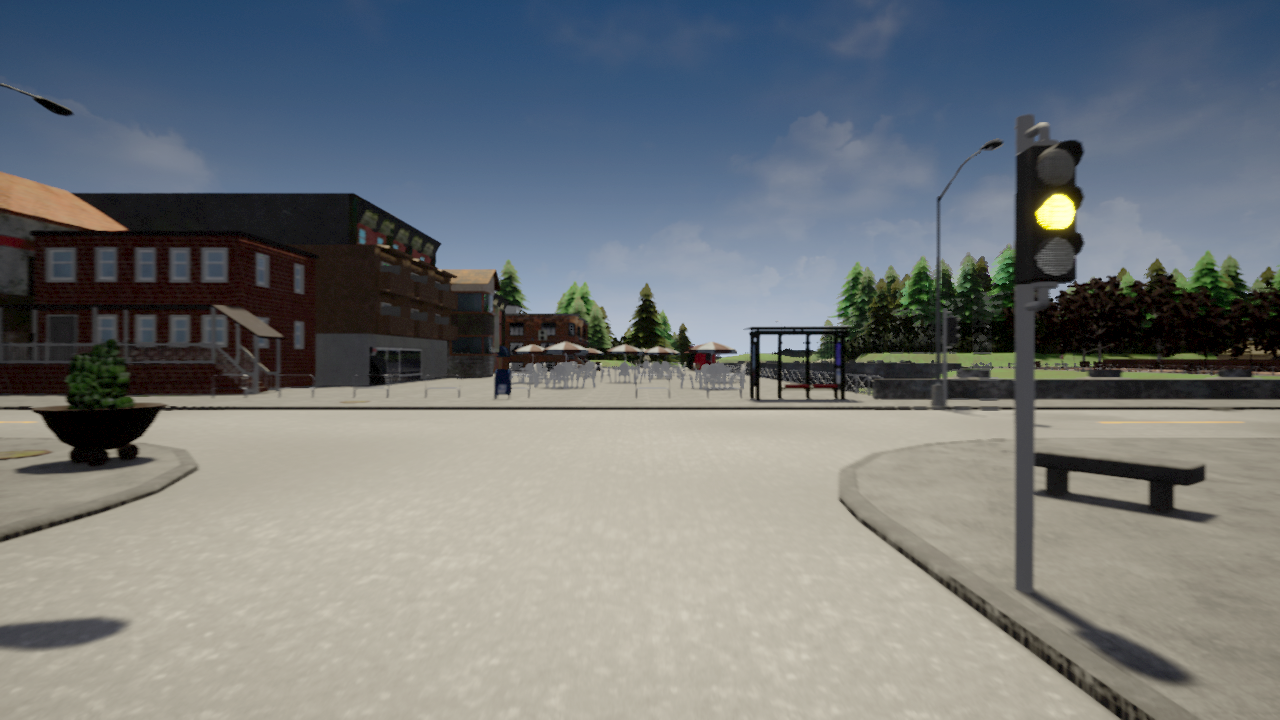yellow: (1018, 135, 1085, 284)
